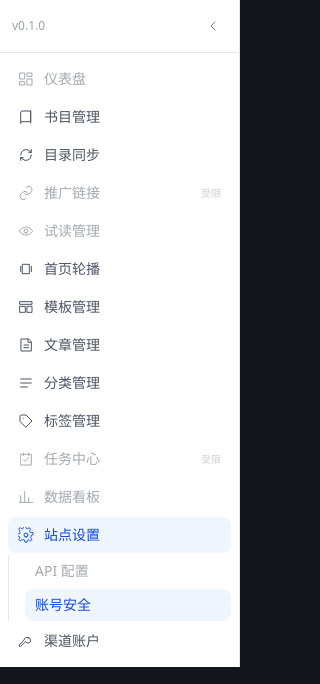
Scenario: 侧栏 · 折叠与展开 › 收起状态下子菜单不渲染——16 个入口挤进 64px 只会糊成一团
Expected: the text "API 配置" is shown, [35, 561, 89, 581]
Click the button.
click(213, 26)  # box [199, 12, 227, 40]
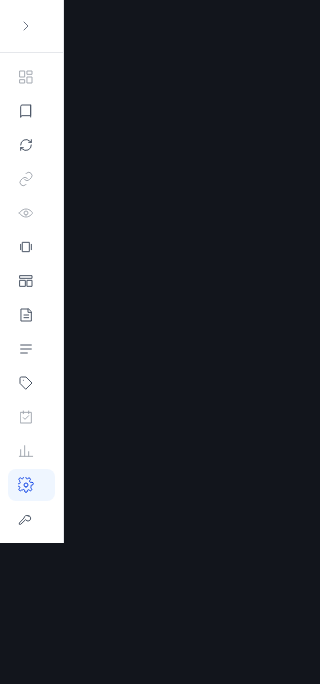
Now the text "API 配置" is gone
Now the text "账号安全" is gone
